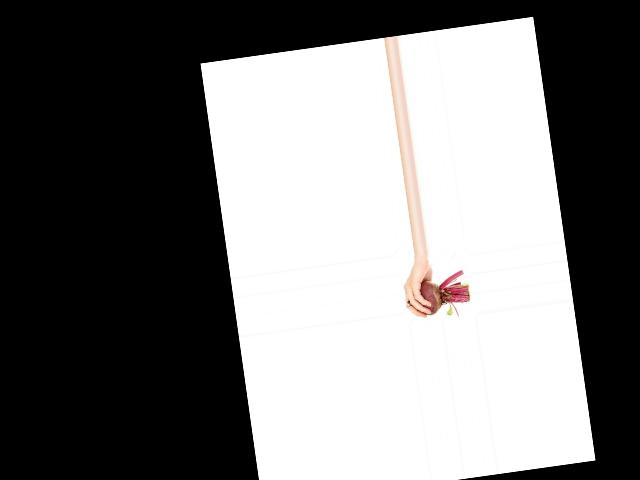beet: (403, 269, 472, 323)
